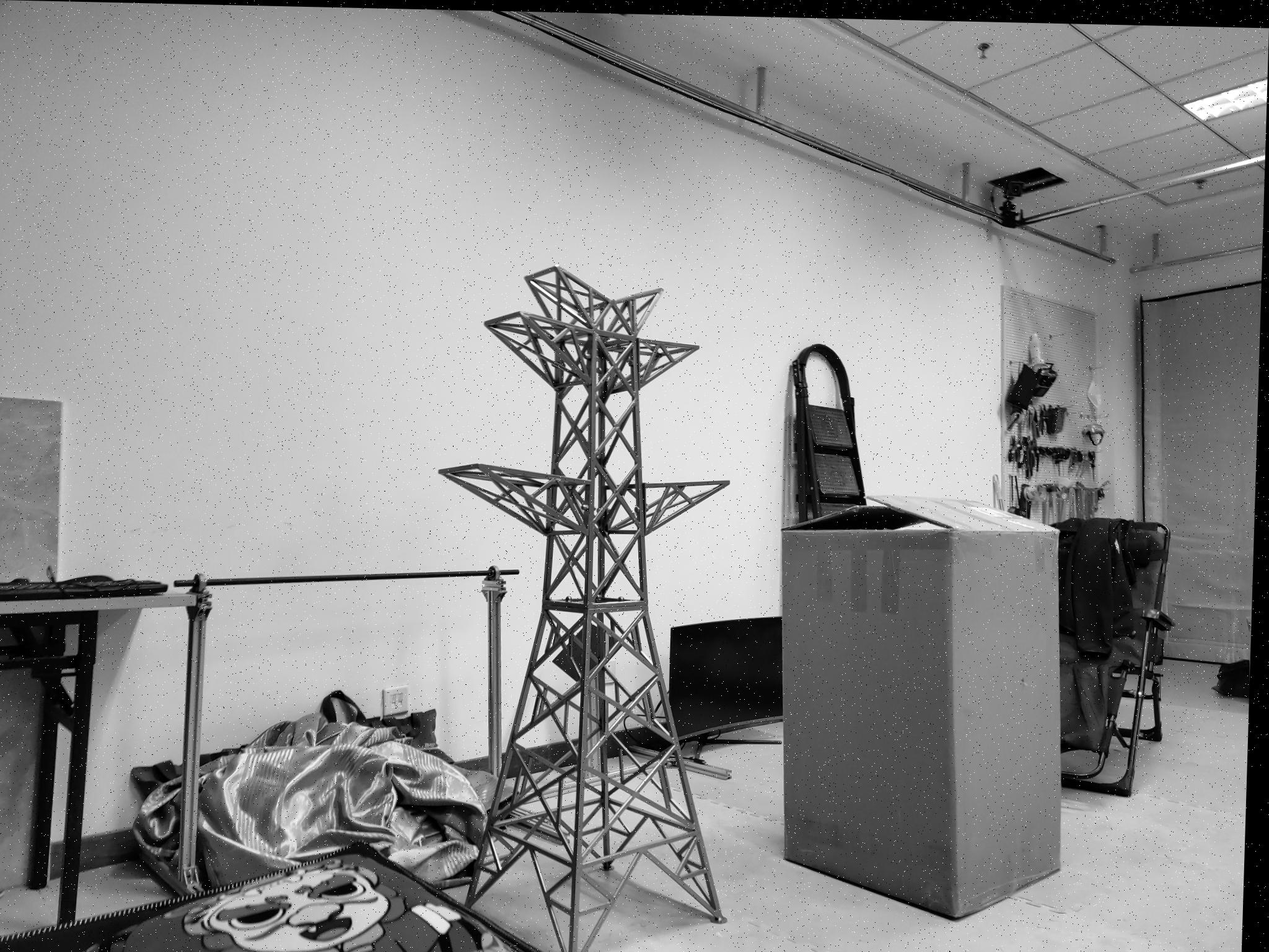tower: (456, 259, 741, 952)
